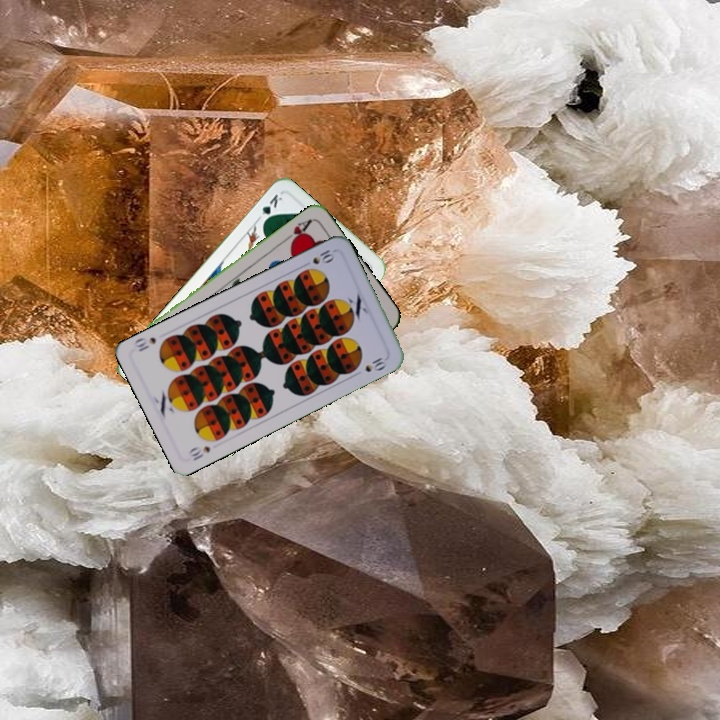GK: (253, 190, 285, 227)
HA: (279, 215, 315, 247)
S10: (308, 245, 337, 267), (184, 442, 213, 463)
